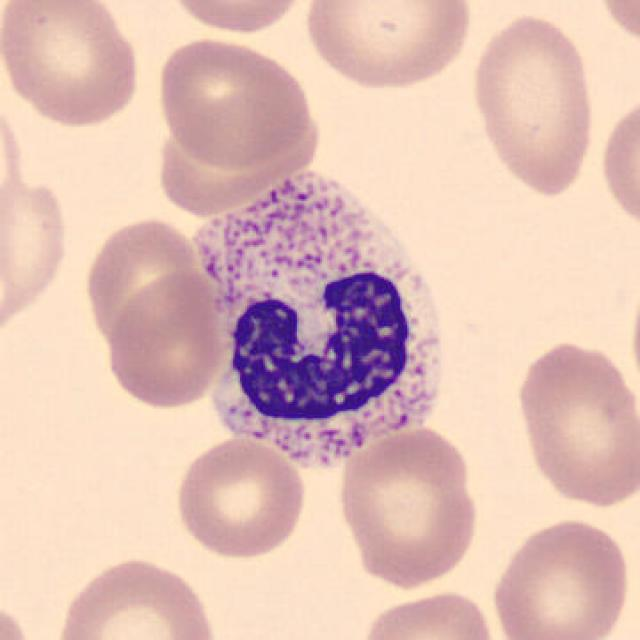Neutrophil: (188, 157, 464, 487)
RBC: (332, 422, 483, 592), (466, 9, 599, 201), (151, 33, 318, 173), (510, 335, 638, 513), (0, 0, 146, 130), (103, 268, 231, 413), (487, 515, 635, 640), (171, 434, 309, 562), (78, 210, 203, 351), (298, 0, 476, 93), (51, 553, 220, 640), (0, 159, 73, 342), (356, 587, 502, 640), (596, 88, 638, 238), (163, 0, 313, 37), (588, 0, 640, 53), (626, 261, 640, 420), (0, 592, 39, 640)
